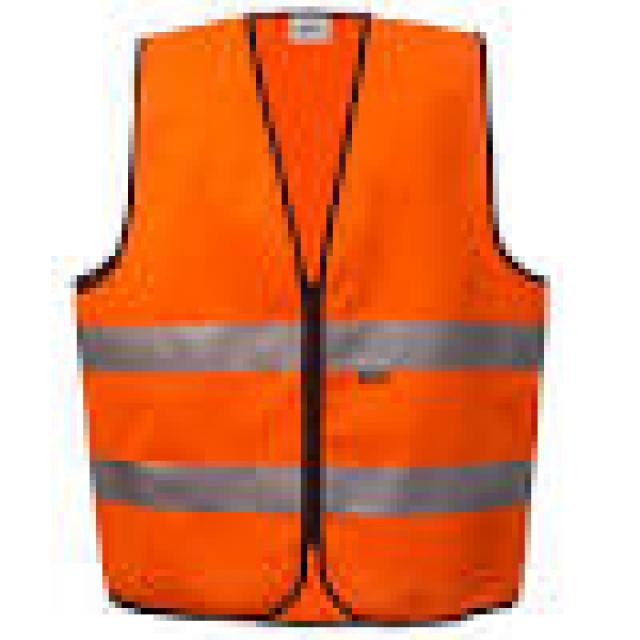Reflective-Jacket: (26, 0, 588, 640)
